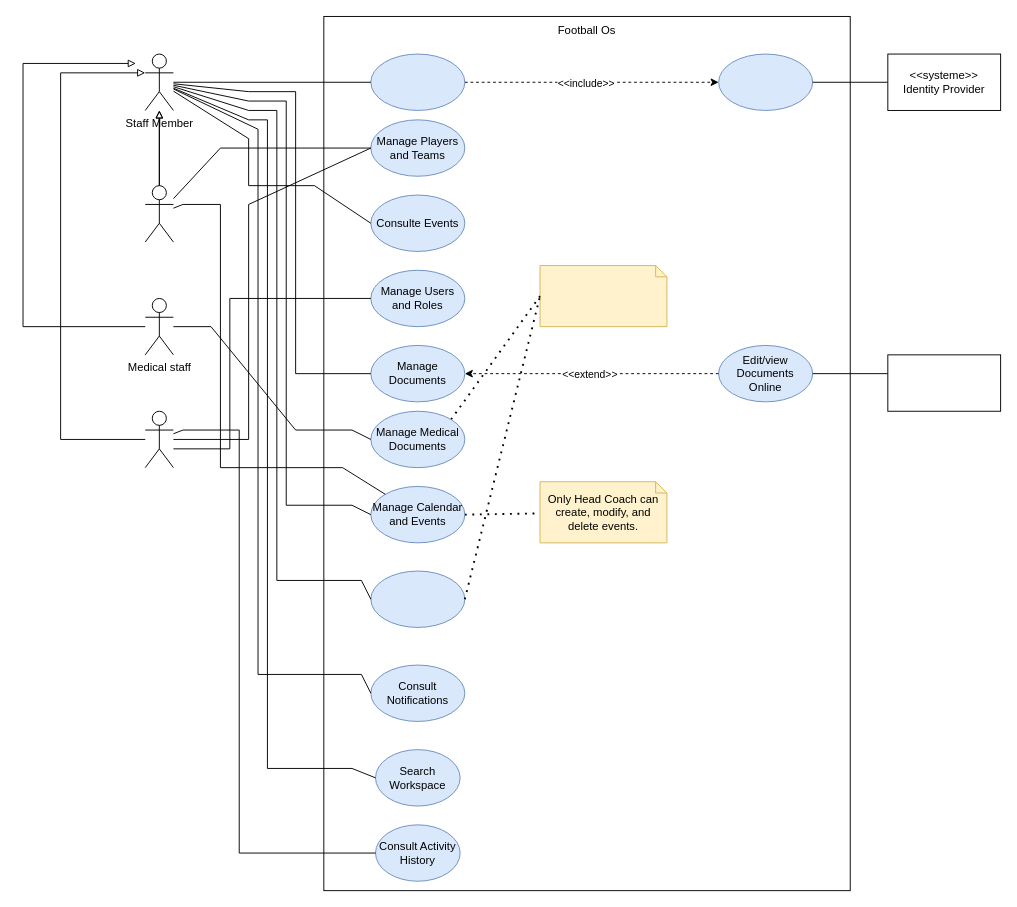
This 1017x907 diagram has some shape labels left out. The box of each missing label's shape, as (x1, y1, x2, y2) in pixels:
<<systeme>> Document Editor: (887, 354, 1001, 411)
Access Platform: (370, 53, 465, 110)
Authenticate User: (718, 53, 813, 110)
Club administrator: (144, 410, 173, 468)
Consult Player Profiles: (370, 570, 465, 627)
Head coach: (144, 185, 173, 242)
Medical Staff has specific access to medical documents.: (539, 265, 667, 327)
